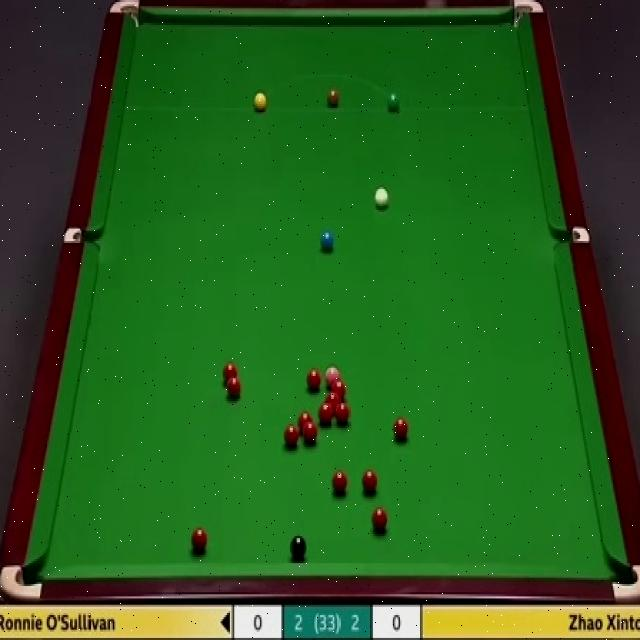black-ball: (290, 532, 307, 561)
blue-ball: (319, 229, 335, 254)
brown-ball: (326, 90, 339, 108)
green-ball: (388, 92, 400, 112)
pink-ball: (325, 366, 341, 384)
red-ball: (191, 528, 209, 554), (371, 507, 388, 534), (306, 367, 323, 393), (393, 418, 410, 441), (227, 377, 242, 402), (332, 471, 349, 493), (303, 421, 319, 444), (362, 470, 378, 493), (222, 360, 237, 384), (284, 425, 299, 446), (317, 404, 334, 422), (336, 403, 350, 423), (298, 410, 312, 428), (324, 391, 342, 405), (331, 381, 348, 393)
white-ball: (373, 185, 390, 213)
yellow-ball: (253, 90, 268, 112)
